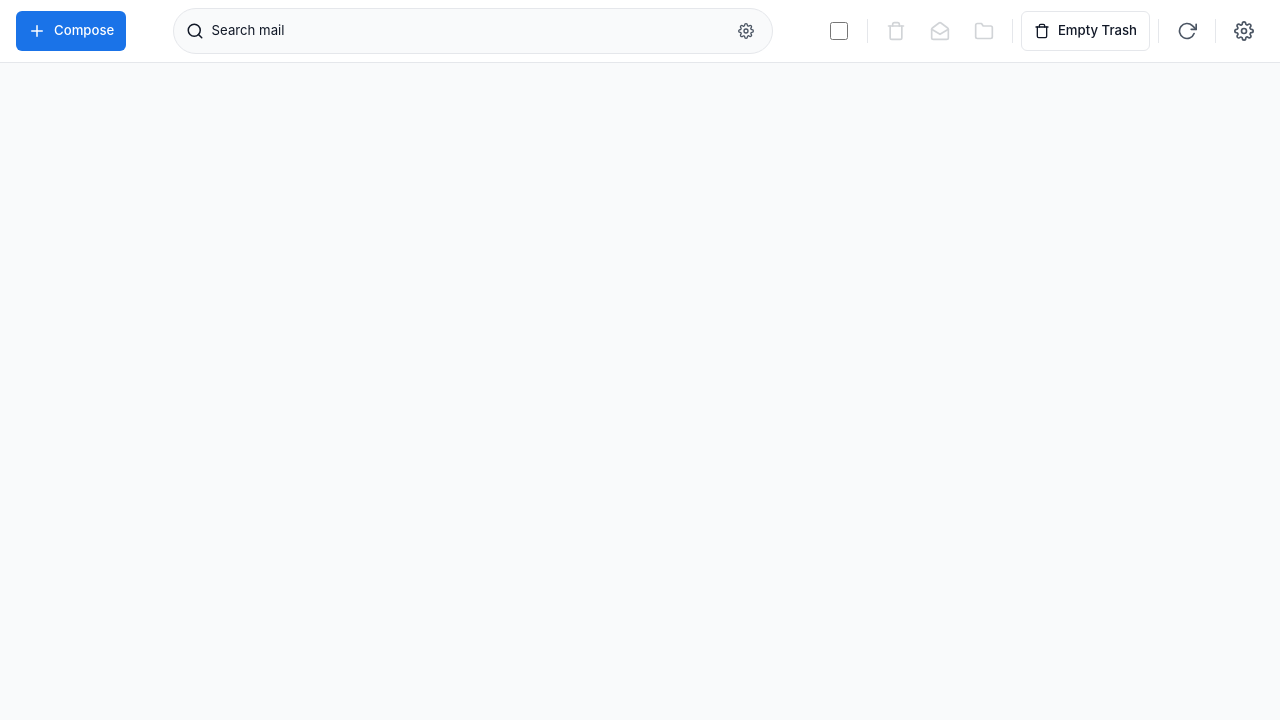
Toolbar - Trash folder › closes dialog when Cancel is clicked in empty trash dialog
Step 1. Click the button "Empty Trash" → (1085, 31), box [1021, 11, 1150, 51]
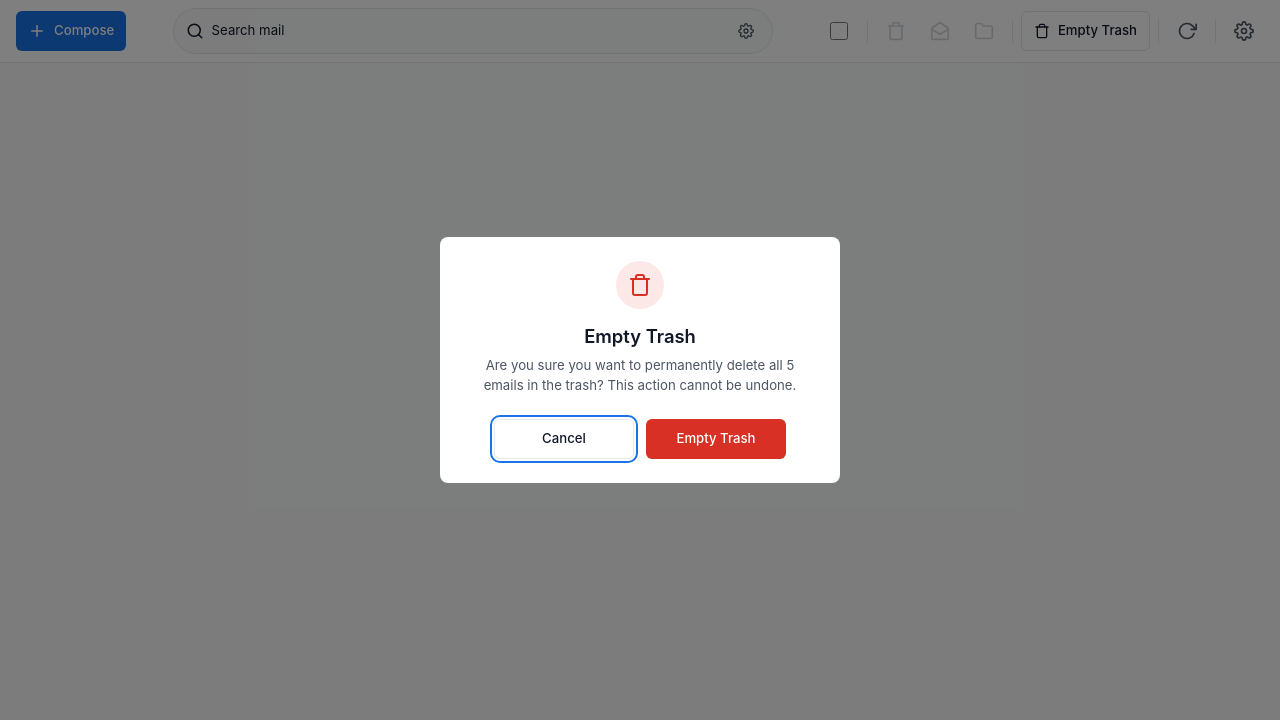
expect the dialog is shown: met, box [440, 237, 840, 483]
Step 2. Click the button "Cancel" → (564, 439), box [494, 419, 634, 459]
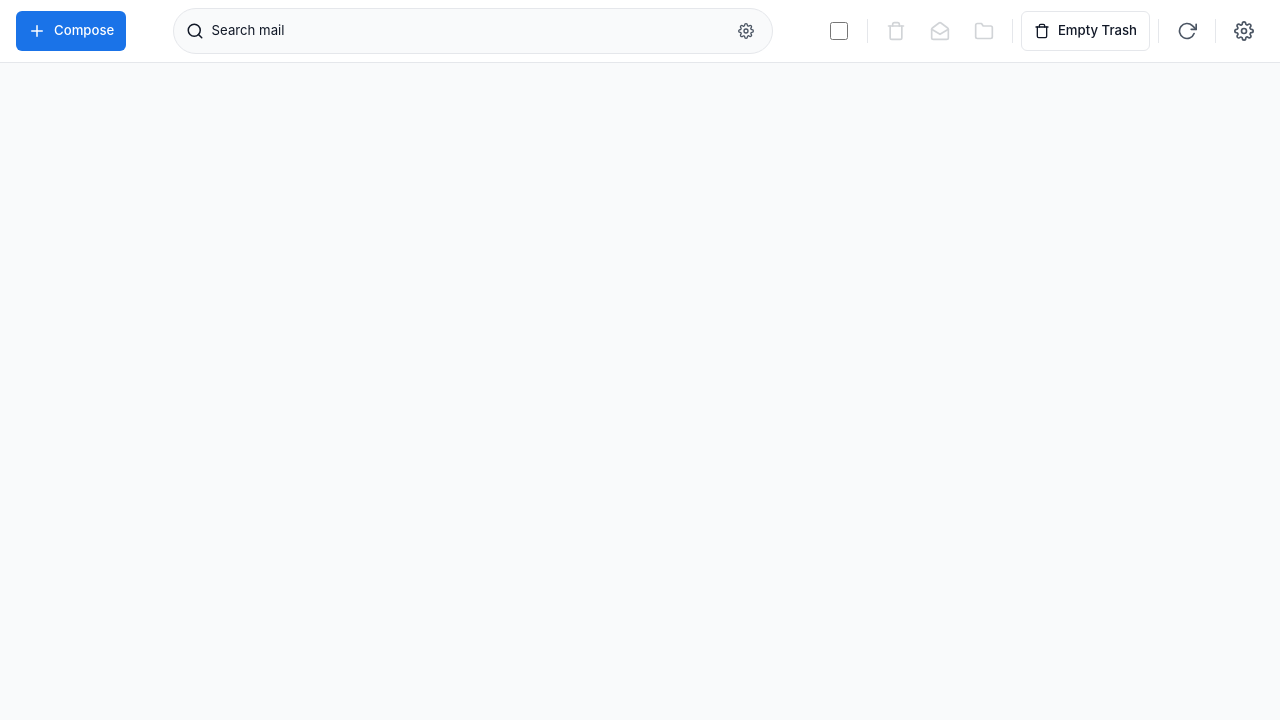
expect the dialog is gone: met
